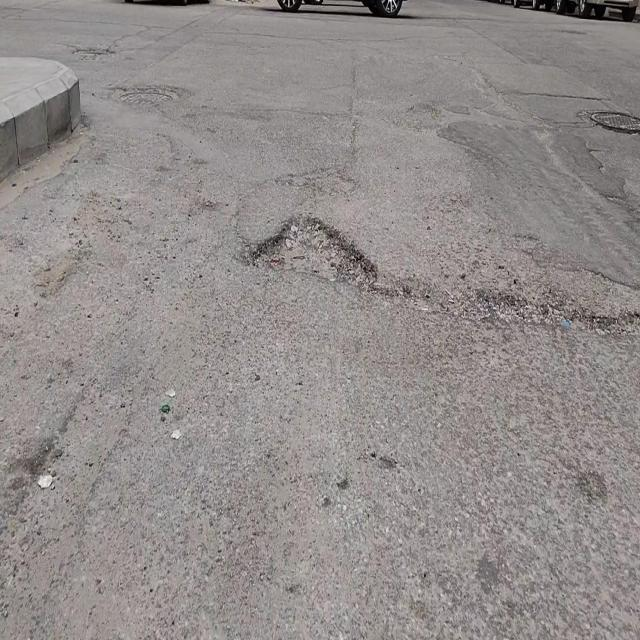Pothole: (250, 210, 379, 291)
